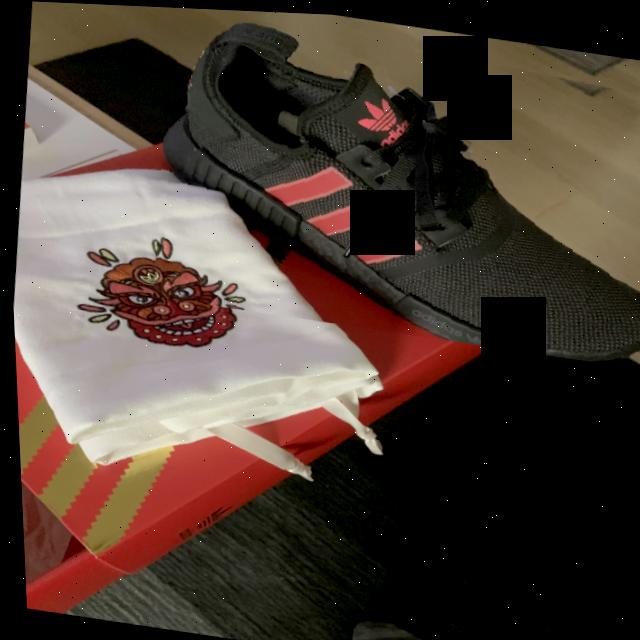shoe: (140, 5, 640, 365)
